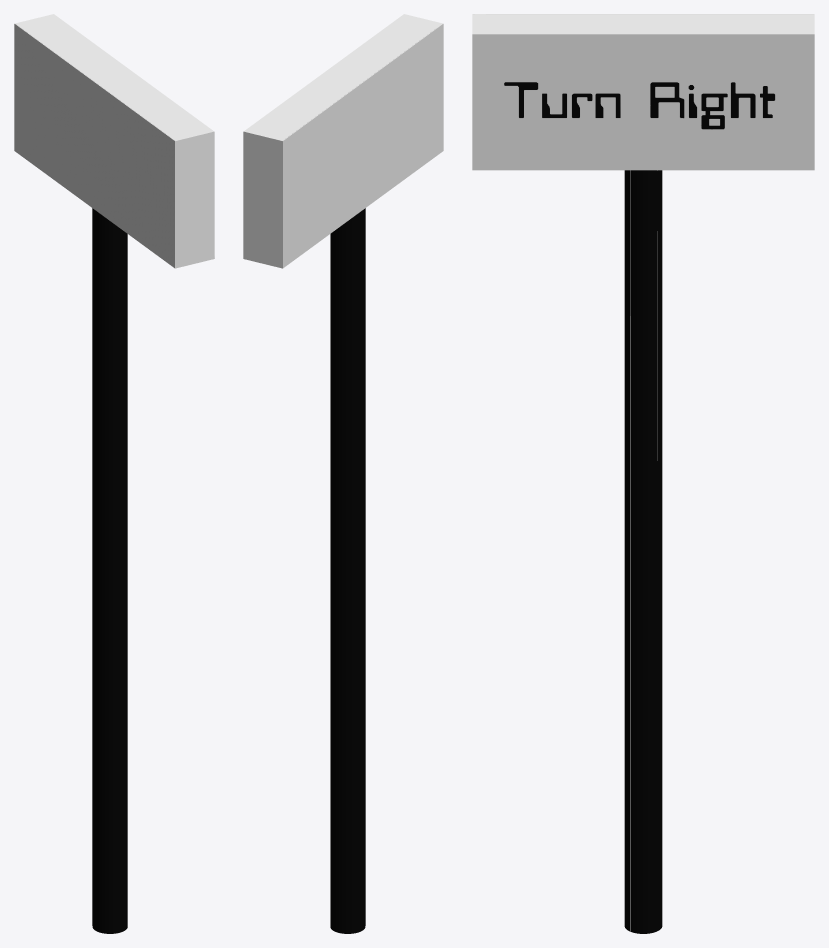
Rendered from sign.fbx.
3 renders of one model, left to right at view 1: azimuth 30°, elevation 25°; view 2: azimuth 150°, elevation 25°; view 3: azimuth 270°, elevation 25°, orthographic. The views are drawn at different scales.
Parts seen in each view (by area): view 1: Cylinder.001; view 2: Cylinder.001; view 3: Cylinder.001.
Part boxes in pixels (left/top/right/bottom): Cylinder.001: left=14, top=14, right=214, bottom=933; Cylinder.001: left=243, top=14, right=443, bottom=933; Cylinder.001: left=472, top=14, right=814, bottom=933.
Size of the model in its own units: 23.52 by 484 by 166.
